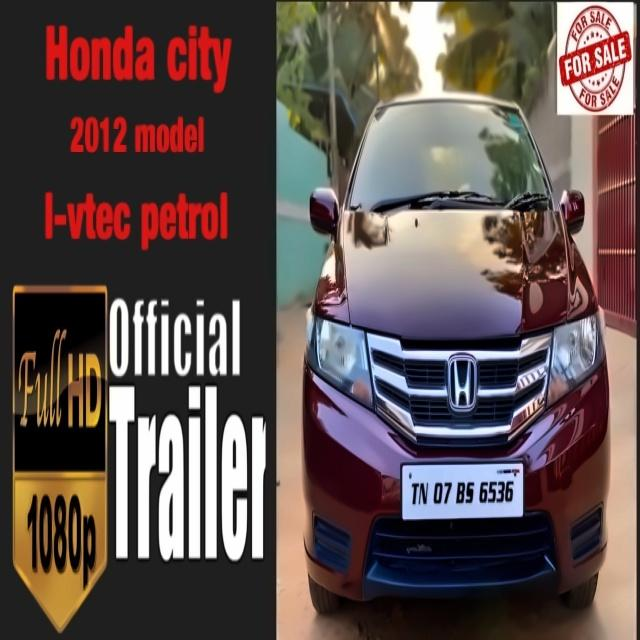Car hood: (307, 206, 606, 344)
Front bumper: (286, 374, 618, 605)
Headlight - -L-: (535, 300, 610, 412)
Headlight - -R-: (298, 301, 385, 416)
Side mirror - -L-: (549, 181, 600, 235)
Side mirror - -R-: (300, 174, 353, 245)
